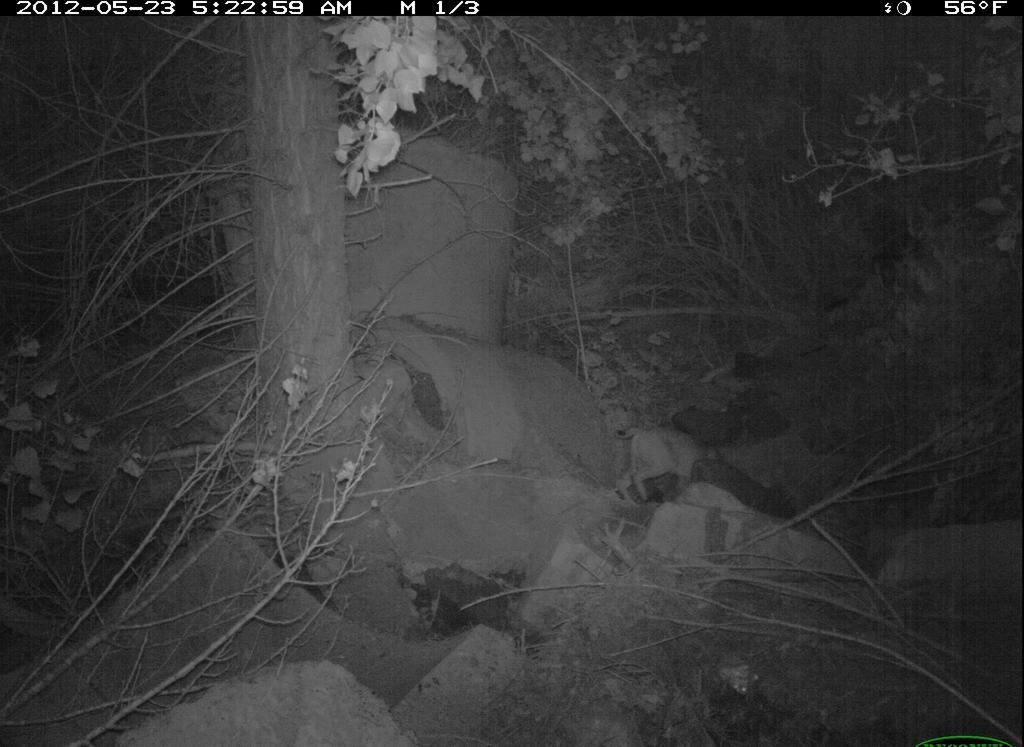bobcat: (613, 421, 724, 509)
